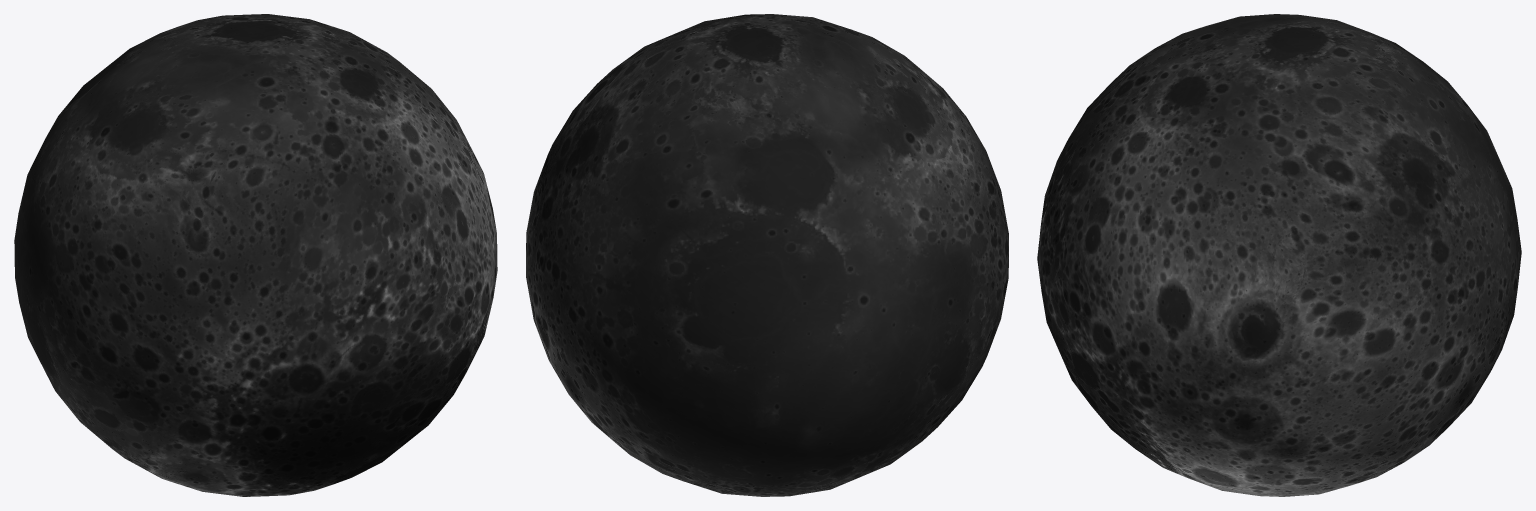
File: moon.glb
3 renders of one model, left to right at view 1: azimuth 30°, elevation 25°; view 2: azimuth 150°, elevation 25°; view 3: azimuth 270°, elevation 25°, orthographic.
Visible parts, largest first — view 1: Moon_Cube.002; view 2: Moon_Cube.002; view 3: Moon_Cube.002.
Part boxes in pixels (bbox=[...]): Moon_Cube.002: bbox=[14, 14, 497, 496]; Moon_Cube.002: bbox=[526, 14, 1008, 496]; Moon_Cube.002: bbox=[1037, 14, 1521, 496].
Bounding box in the file's own units: 3.48 × 3.48 × 3.49.
Materials: 1 (1 with a texture image).
